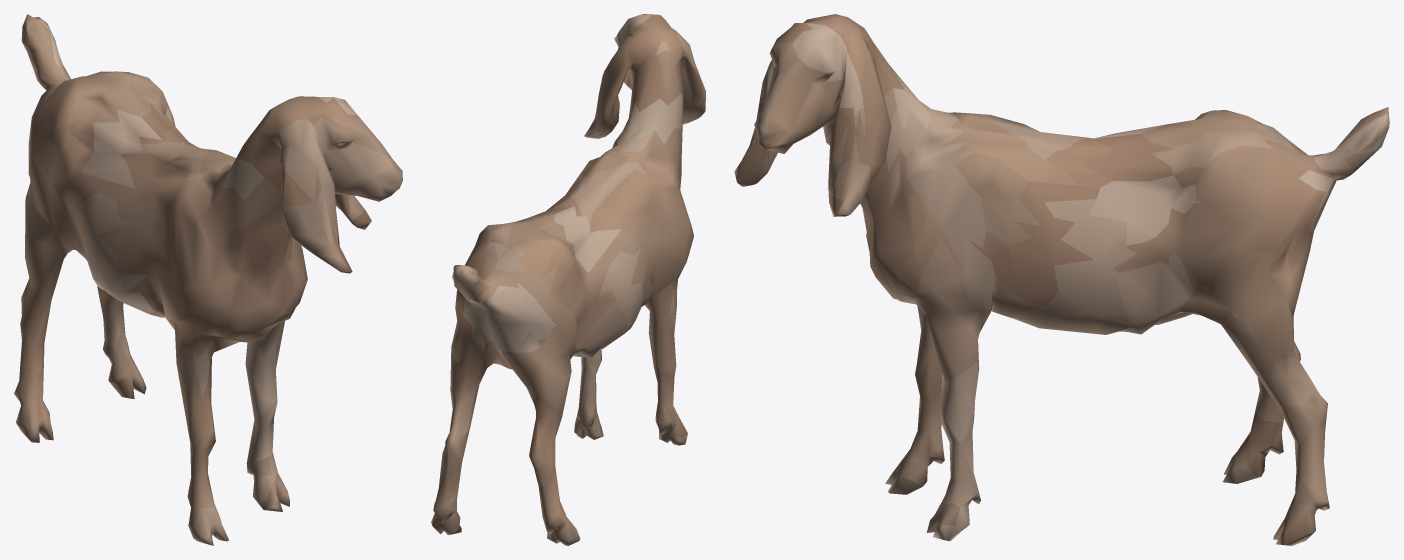
Rendered from goat.glb.
3 views of the same model, side by side, from view 1: azimuth 30°, elevation 25°; view 2: azimuth 150°, elevation 25°; view 3: azimuth 270°, elevation 25° (orthographic). The views are drawn at different scales.
Parts seen in each view (by area): view 1: LO.001; view 2: LO.001; view 3: LO.001.
Boxes of the visible parts, x1=… form: LO.001: x1=14, y1=14, x2=402, y2=545; LO.001: x1=431, y1=14, x2=705, y2=545; LO.001: x1=734, y1=14, x2=1389, y2=545.
Bounding box in the file's own units: 0.4282 × 1.11 × 1.29.
Materials: 1 (1 with a texture image).
